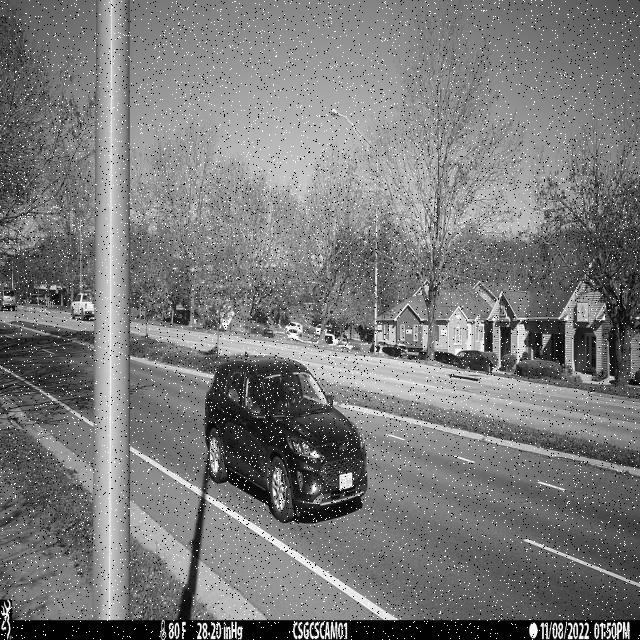SUV: (204, 356, 368, 524)
